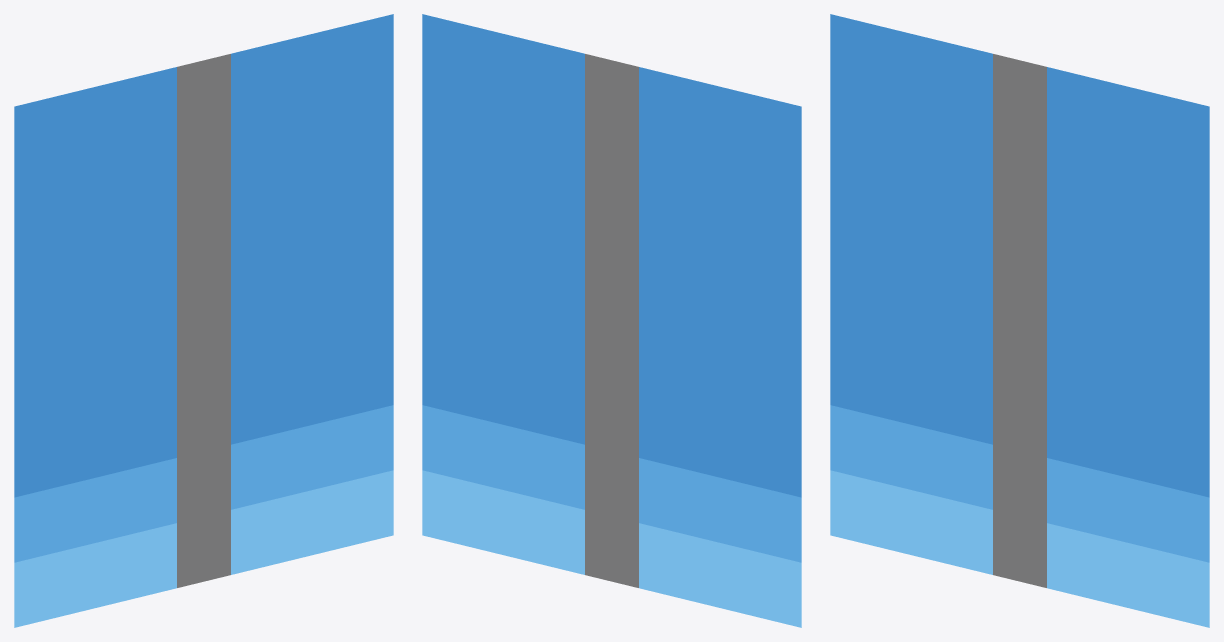
3 views of the same model, side by side, from view 1: azimuth 30°, elevation 25°; view 2: azimuth 150°, elevation 25°; view 3: azimuth 330°, elevation 25° (orthographic).
Visible parts, largest first — view 1: 00_polygon0, 01_polygon1; view 2: 00_polygon0, 01_polygon1; view 3: 00_polygon0, 01_polygon1.
Boxes of the visible parts, box(x1,y1,x2,y2) form: 00_polygon0: box(14, 60, 203, 627); 01_polygon1: box(204, 14, 393, 581); 00_polygon0: box(612, 60, 801, 627); 01_polygon1: box(422, 14, 611, 581); 00_polygon0: box(830, 14, 1019, 581); 01_polygon1: box(1020, 60, 1209, 627).
Size of the model in its own units: 0.25 by 0.3281 by 0.
1 material, 1 textured.
